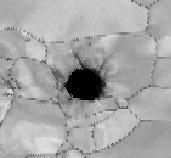good_void: (64, 53, 107, 102)
